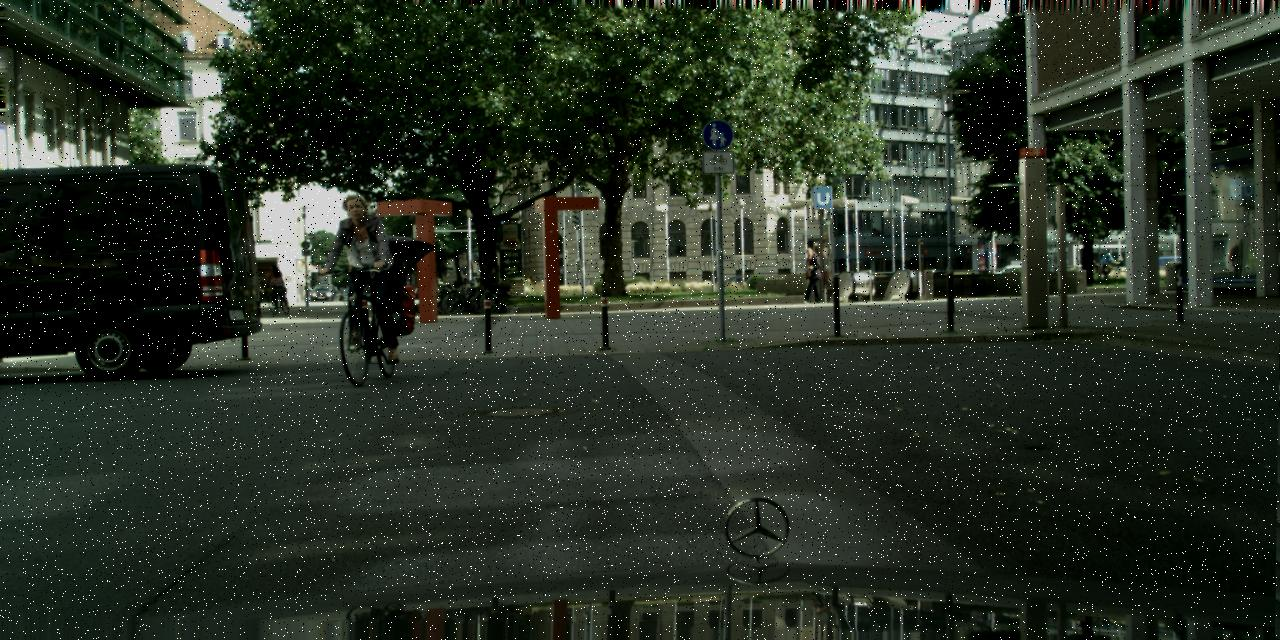ped: (333, 195, 396, 349), (799, 247, 821, 302), (268, 264, 284, 304), (1101, 247, 1113, 278)
